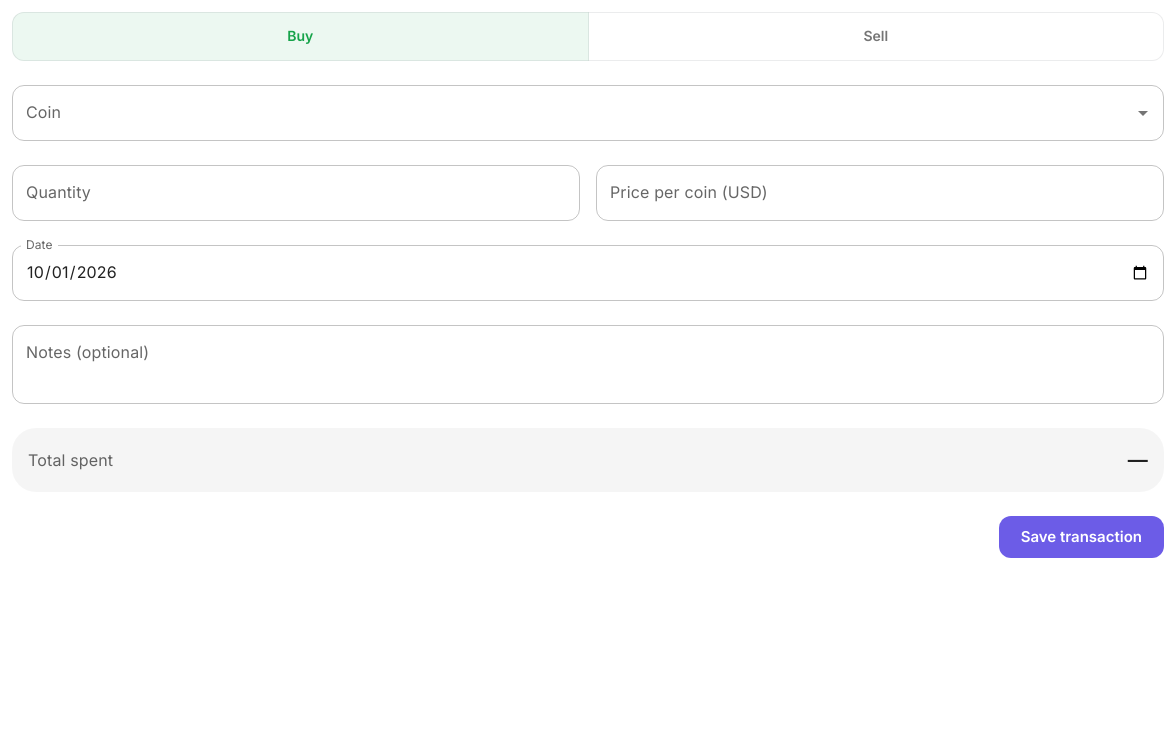
TransactionForm › requires a coin
This screenshot has width=1176, height=732.
Click the button "Save transaction" at (1081, 537), box [999,516,1164,558]
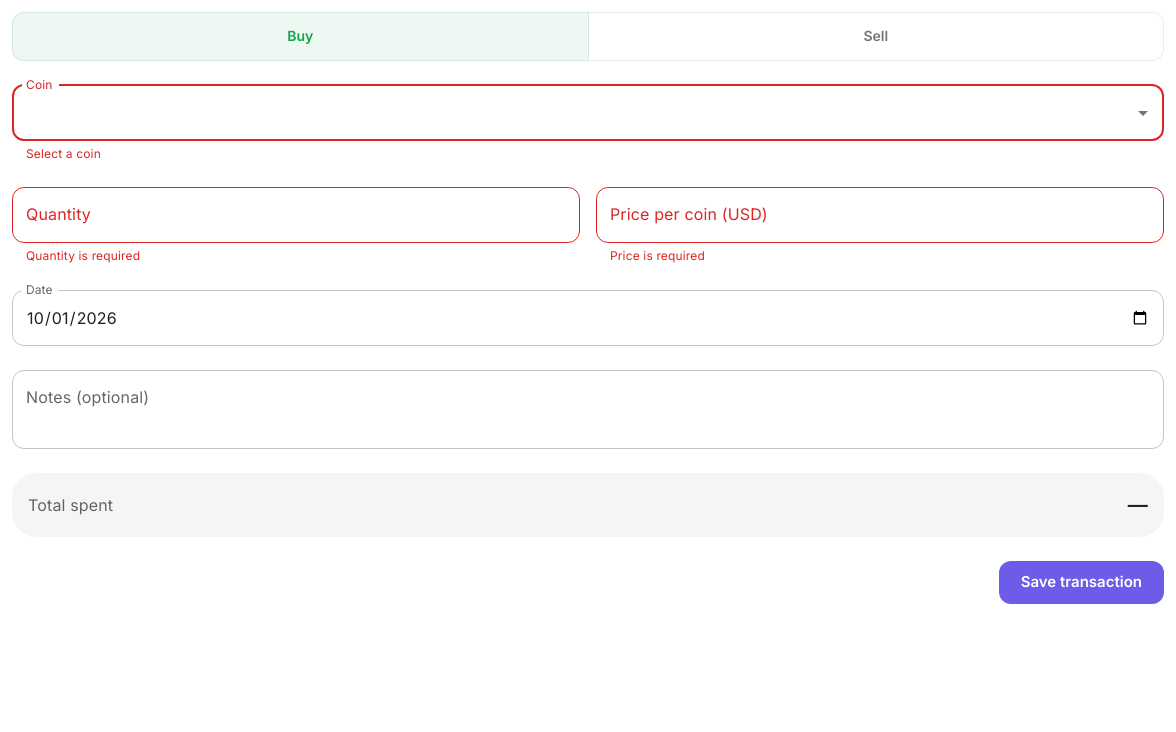
Now the text "Select a coin" is shown, box [26,146,101,160]
